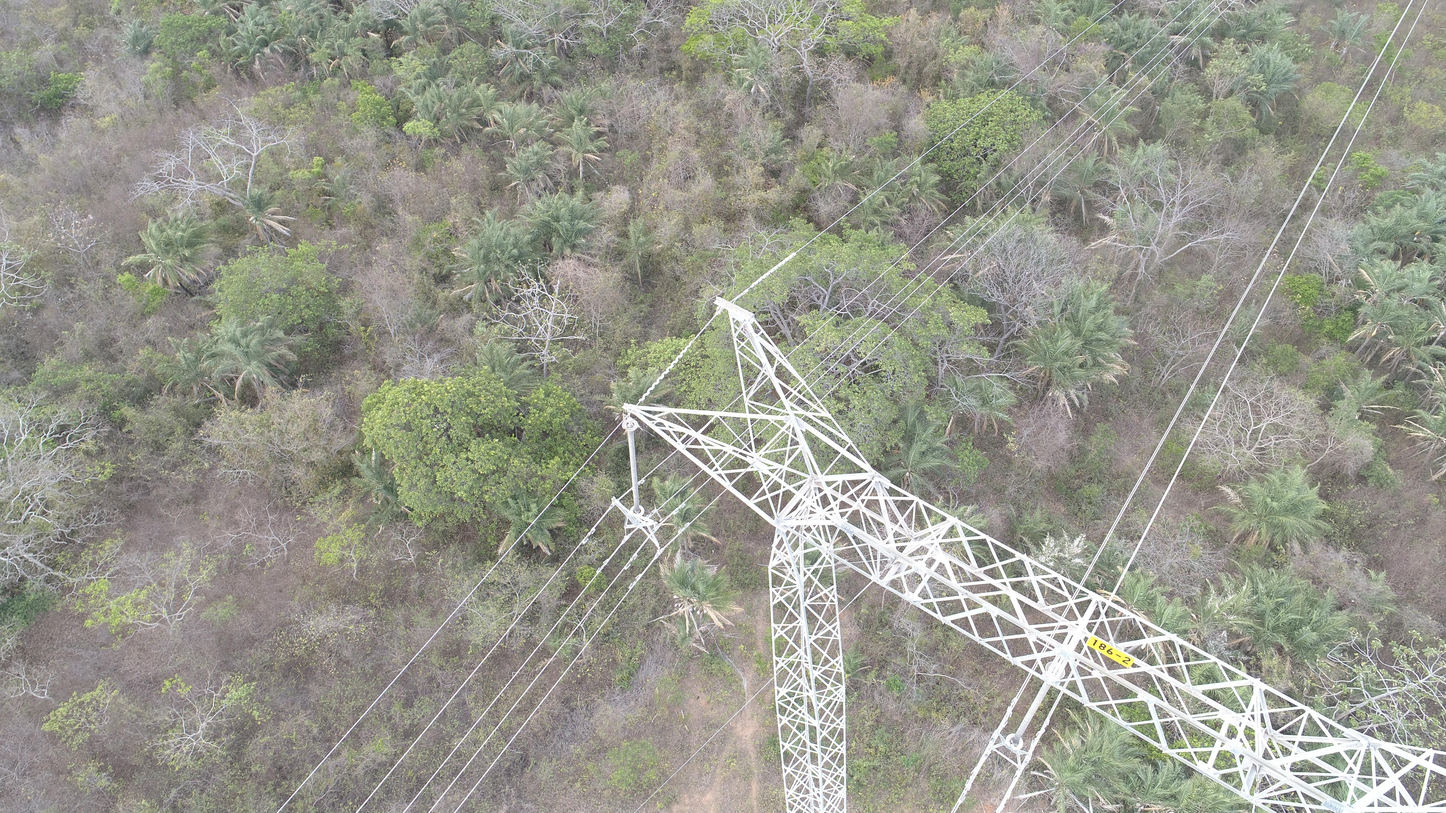power_tower: (607, 296, 1446, 813)
